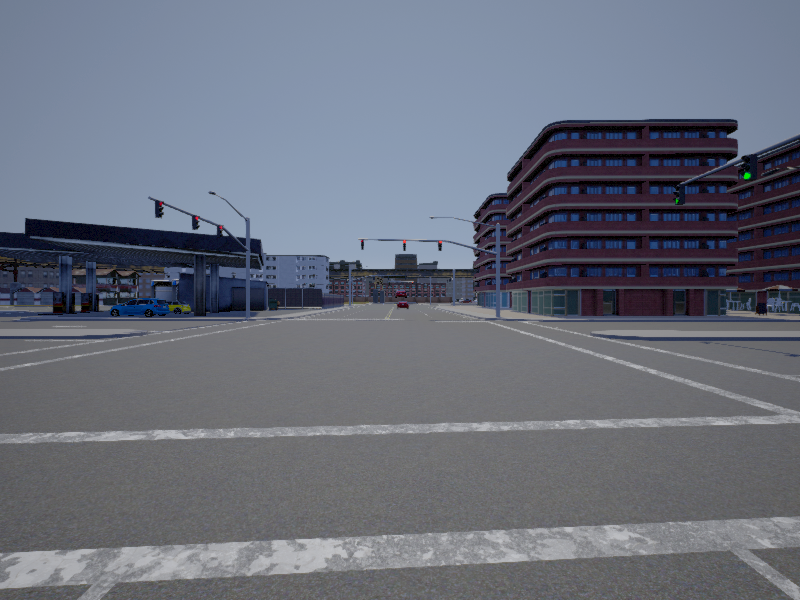Attacker: (396, 290, 407, 297)
Benign: (397, 301, 408, 308)
